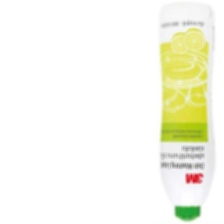cleaning_solution: (157, 0, 218, 223)
